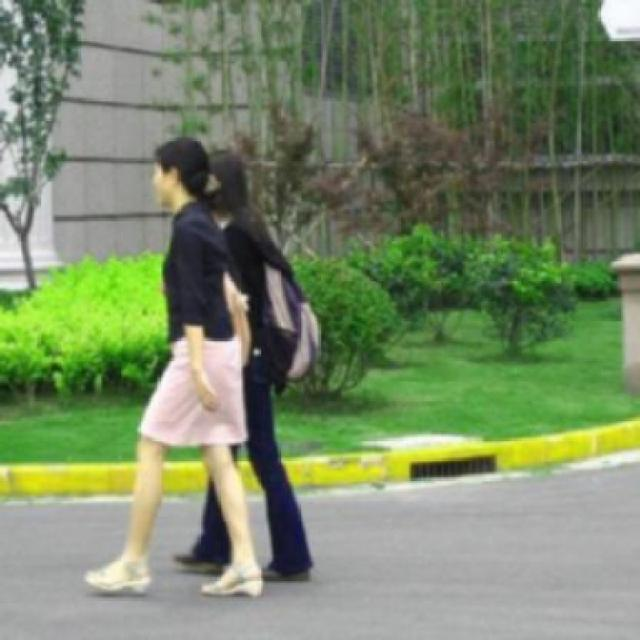Person: (84, 130, 261, 608), (188, 139, 320, 590)
